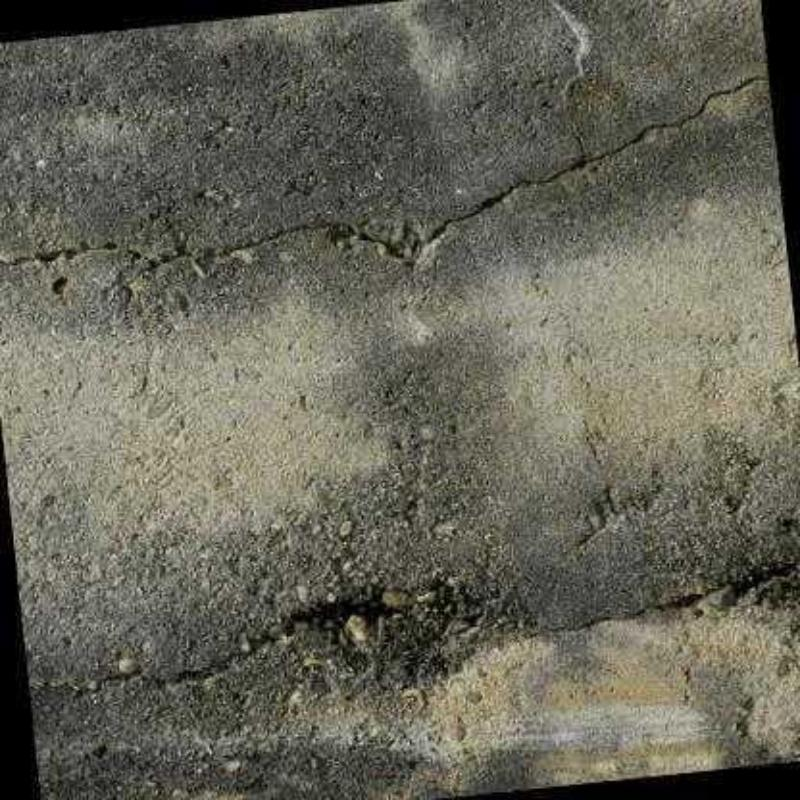crack: (0, 65, 769, 273), (577, 592, 704, 631), (723, 567, 794, 608)
